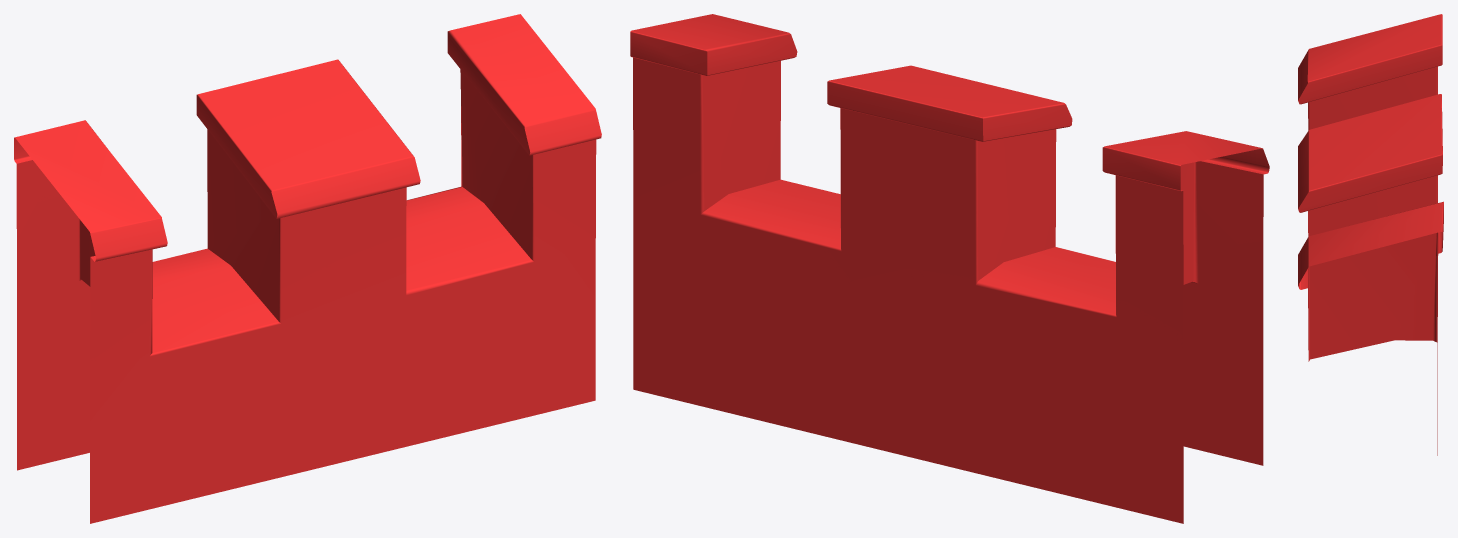
File: Battlements.fbx
3 views of the same model, side by side, from view 1: azimuth 30°, elevation 25°; view 2: azimuth 150°, elevation 25°; view 3: azimuth 270°, elevation 25° (orthographic). The views are drawn at different scales.
Visible parts, largest first — view 1: Battlements COL; view 2: Battlements COL; view 3: Battlements COL.
Part boxes in pixels (x1,y1,x2,y2): Battlements COL: [14, 14, 601, 523]; Battlements COL: [630, 14, 1269, 523]; Battlements COL: [1298, 14, 1443, 455].
Size of the model in its own units: 300 by 188 by 85.02.
